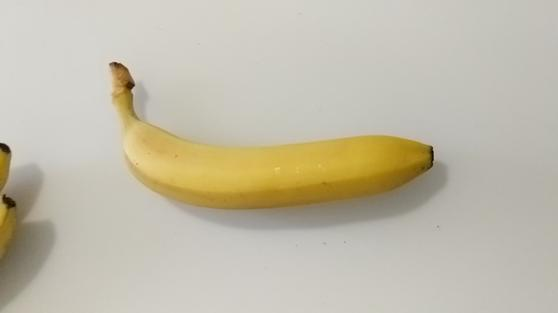banana: (100, 65, 442, 209)
